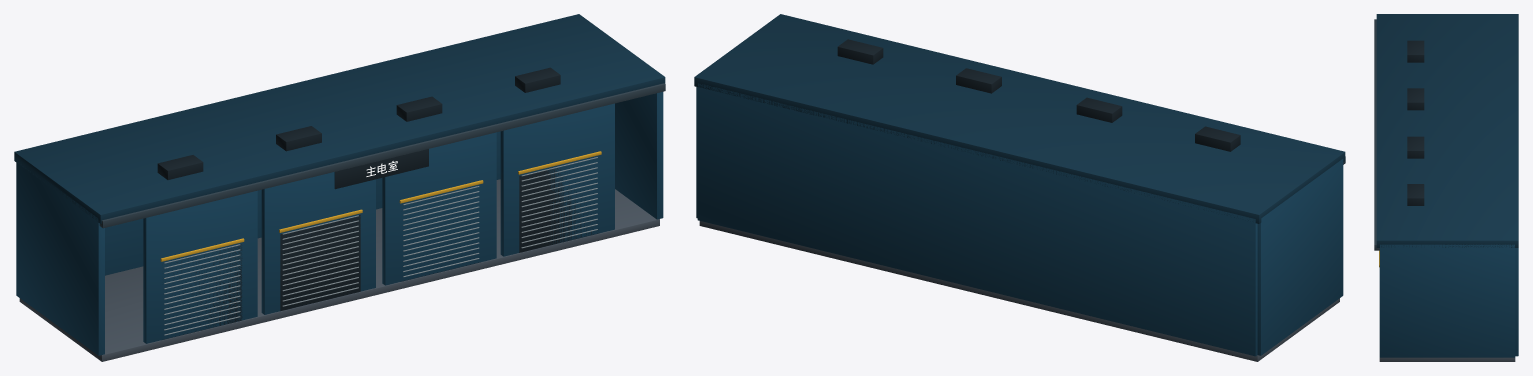
The model's file is main_drive_room_mo.glb.
3 views of the same model, side by side, from view 1: azimuth 30°, elevation 25°; view 2: azimuth 150°, elevation 25°; view 3: azimuth 270°, elevation 25° (orthographic). The views are drawn at different scales.
Visible parts, largest first — view 1: Asset_main_drive_room; view 2: Asset_main_drive_room; view 3: Asset_main_drive_room.
Part boxes in pixels (x1,y1,x2,y2): Asset_main_drive_room: (14, 14, 665, 361); Asset_main_drive_room: (694, 14, 1345, 361); Asset_main_drive_room: (1374, 14, 1518, 361).
Bounding box in the file's own units: 25.3 × 6.8 × 6.8.
